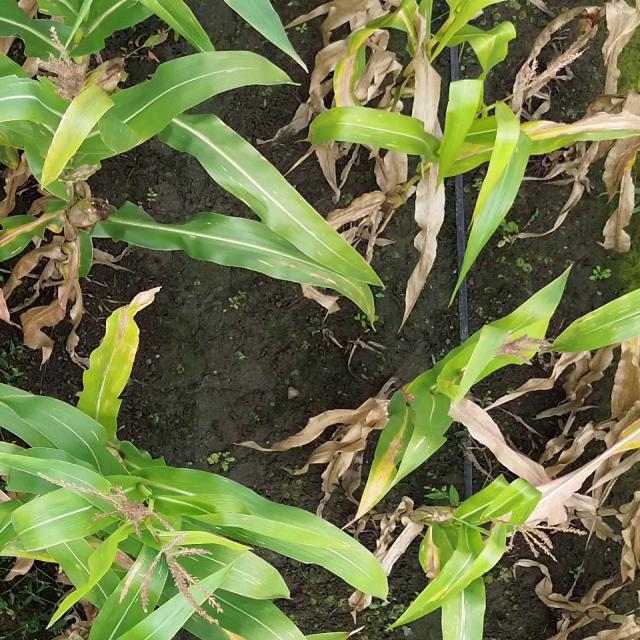gray-leaf-spot: (221, 169, 391, 309), (174, 515, 291, 591), (397, 566, 498, 636)
northern-leaf-blight: (66, 272, 166, 438), (444, 99, 634, 175), (313, 20, 414, 120), (350, 407, 430, 517), (0, 207, 65, 268)
